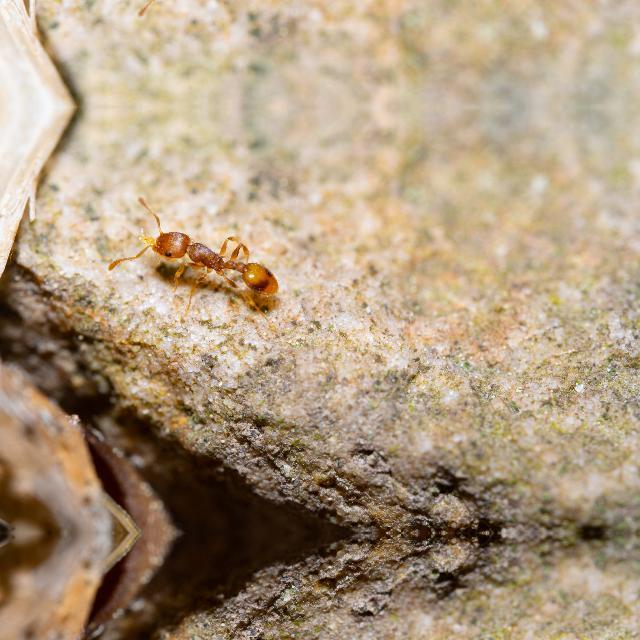Temnothorax: (120, 205, 290, 318)
